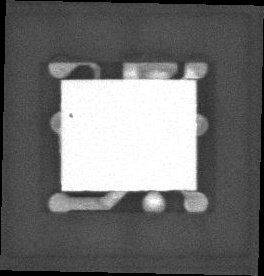DIE_INK: (64, 116, 72, 124)
